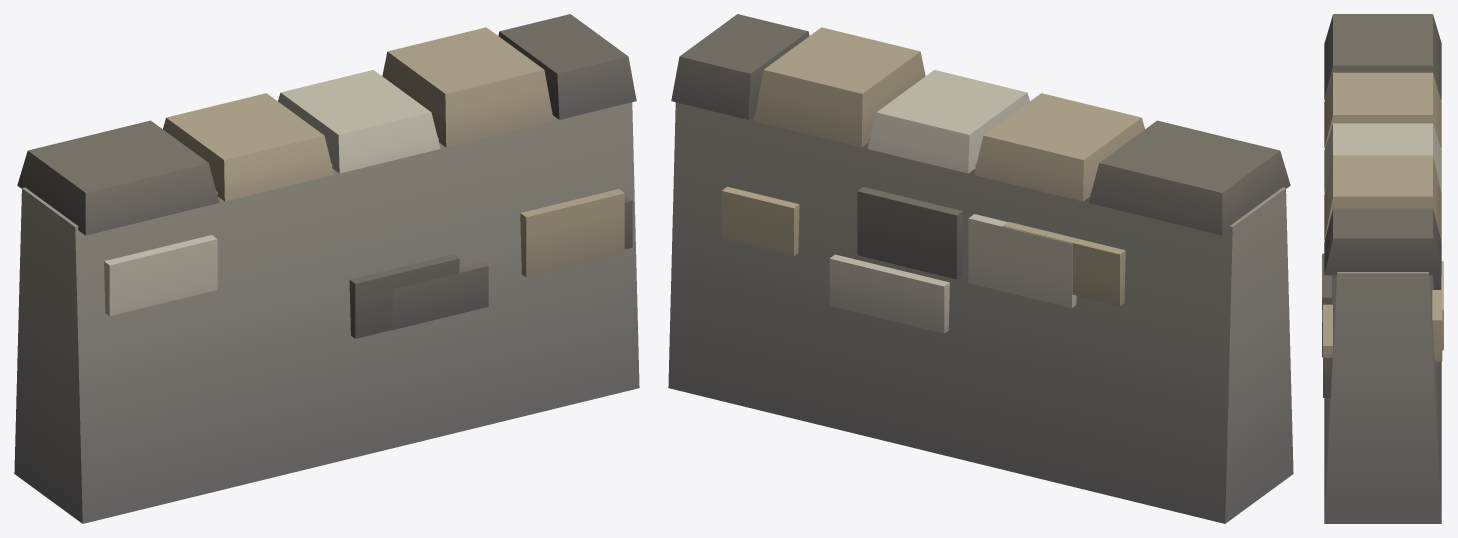
Rendered from stone_wall.glb.
3 views of the same model, side by side, from view 1: azimuth 30°, elevation 25°; view 2: azimuth 150°, elevation 25°; view 3: azimuth 270°, elevation 25° (orthographic). The views are drawn at different scales.
Parts seen in each view (by area): view 1: stone_wall; view 2: stone_wall; view 3: stone_wall.
Boxes of the visible parts, box(x1,y1,x2,y2) form: stone_wall: box(14, 14, 639, 523); stone_wall: box(668, 14, 1293, 523); stone_wall: box(1322, 14, 1443, 523).
Size of the model in its own units: 8 by 4.62 by 1.76.
Materials: 1 (1 with a texture image).
